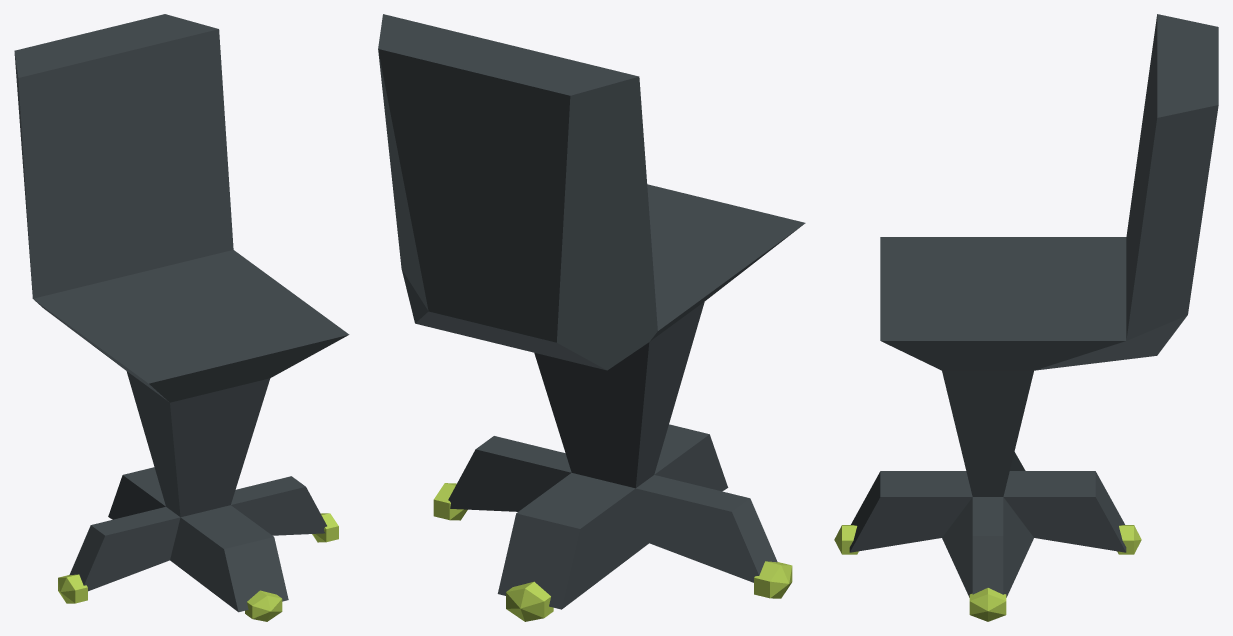
Rendered from OfficeChairTemplate.gltf.
3 views of the same model, side by side, from view 1: azimuth 30°, elevation 25°; view 2: azimuth 150°, elevation 25°; view 3: azimuth 270°, elevation 25° (orthographic). The views are drawn at different scales.
Parts seen in each view (by area): view 1: chairbase, wheel (×3); view 2: chairbase, wheel (×3); view 3: chairbase, wheel.
Part boxes in pixels (left/top/right/bottom): chairbase: left=14, top=14, right=349, bottom=612; wheel (×3): left=58, top=513, right=338, bottom=621; chairbase: left=378, top=14, right=805, bottom=609; wheel (×3): left=433, top=483, right=792, bottom=621; chairbase: left=849, top=14, right=1218, bottom=597; wheel: left=969, top=588, right=1006, bottom=621.
Bounding box in the file's own units: 0.6875 × 1.09 × 0.7812.
Materials: 4 (4 with a texture image).
